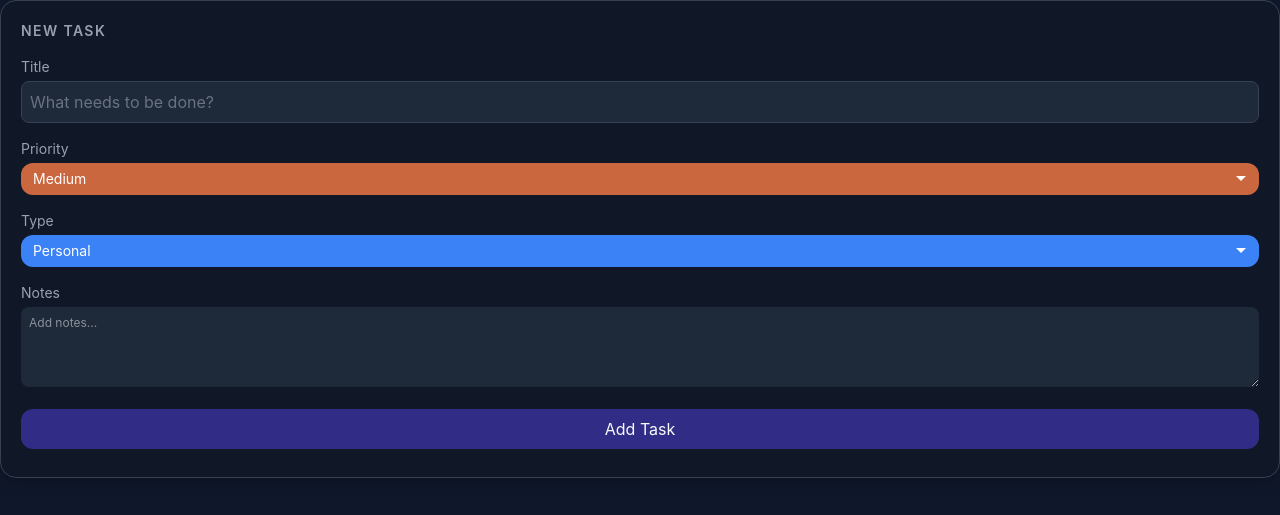
Test: TaskForm › shows an API error message when the server returns an error
Type "Todo task 1" into the field labelled "Title" at (640, 102), box [21, 81, 1259, 123]
Click the button "Medium" at (60, 178), box [21, 163, 1259, 195]
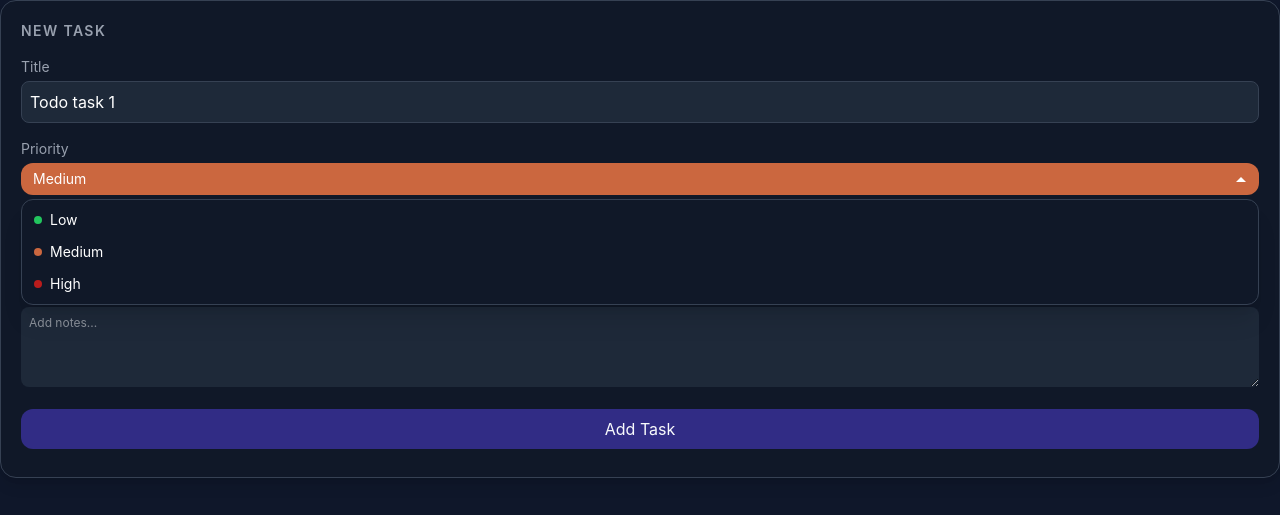
Click the button "High" at (65, 284), box [22, 268, 1258, 300]
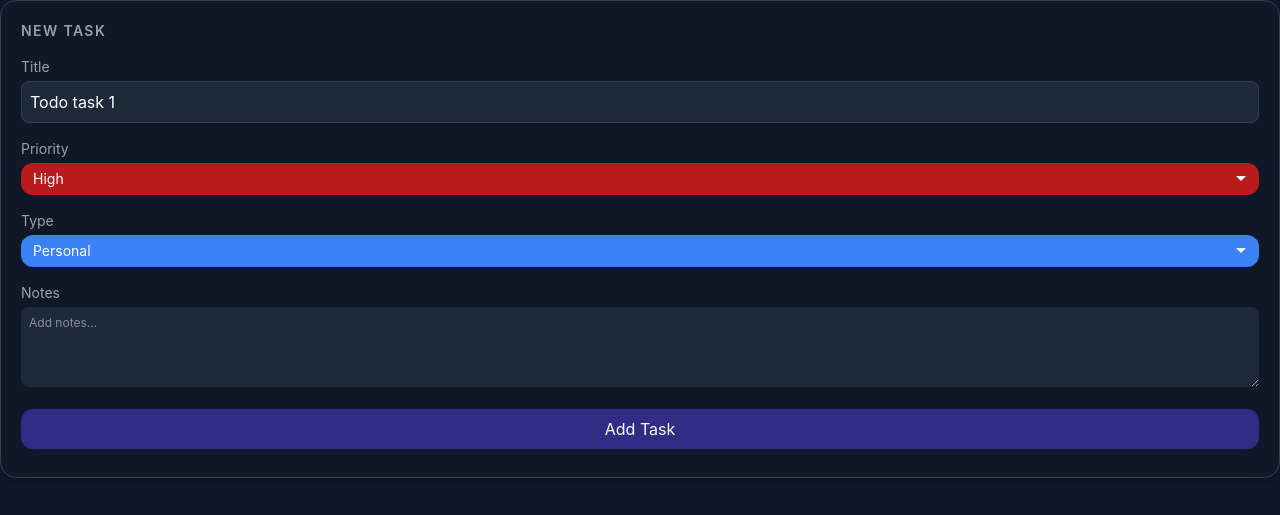
Click the button "Personal" at (62, 250), box [21, 235, 1259, 267]
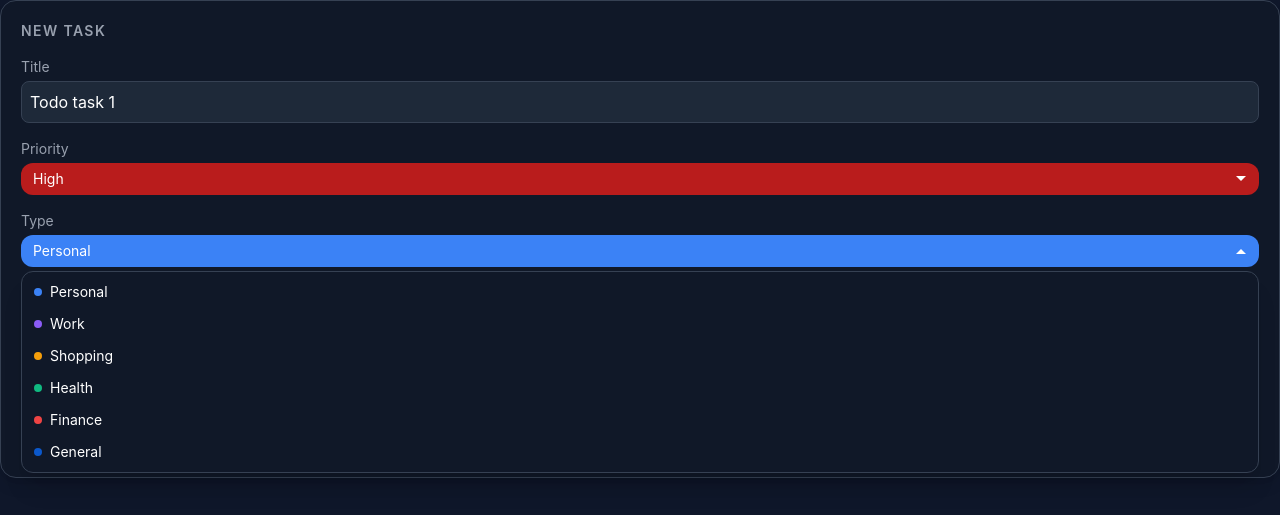
Click the button "General" at (76, 452), box [22, 436, 1258, 468]
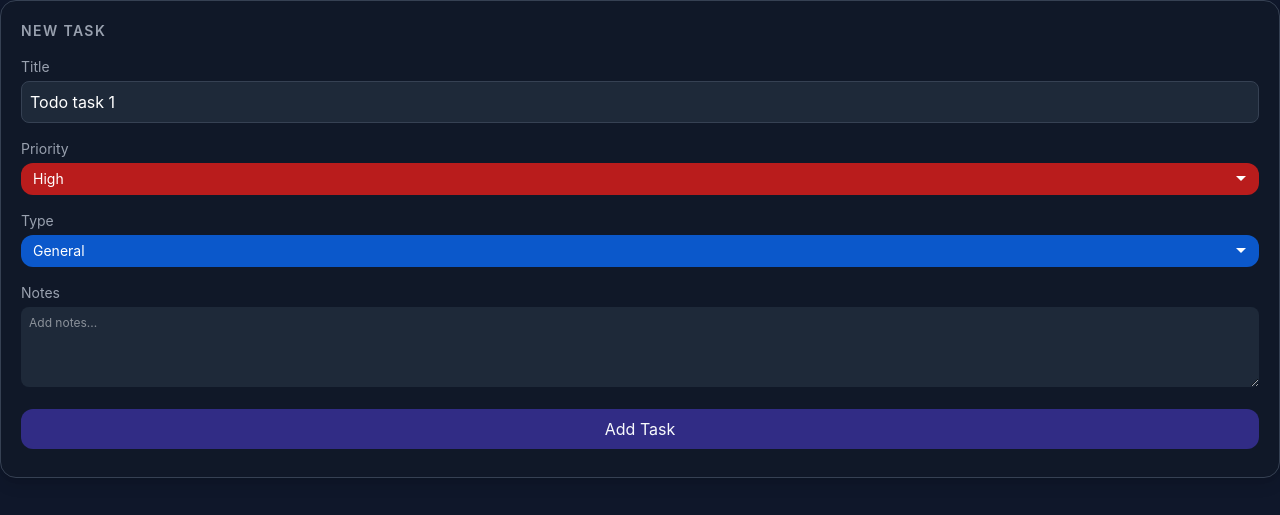
Type "Todo task notes" into the text box labelled "Notes" at (640, 347), box [21, 307, 1259, 387]
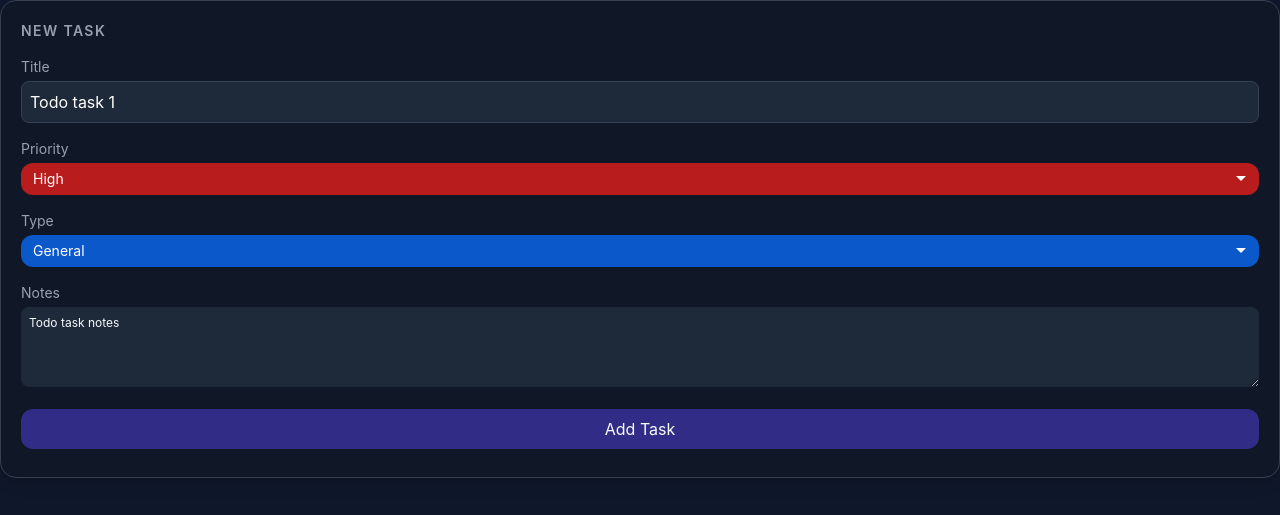
Click the button "Add Task" at (640, 429), box [21, 409, 1259, 449]
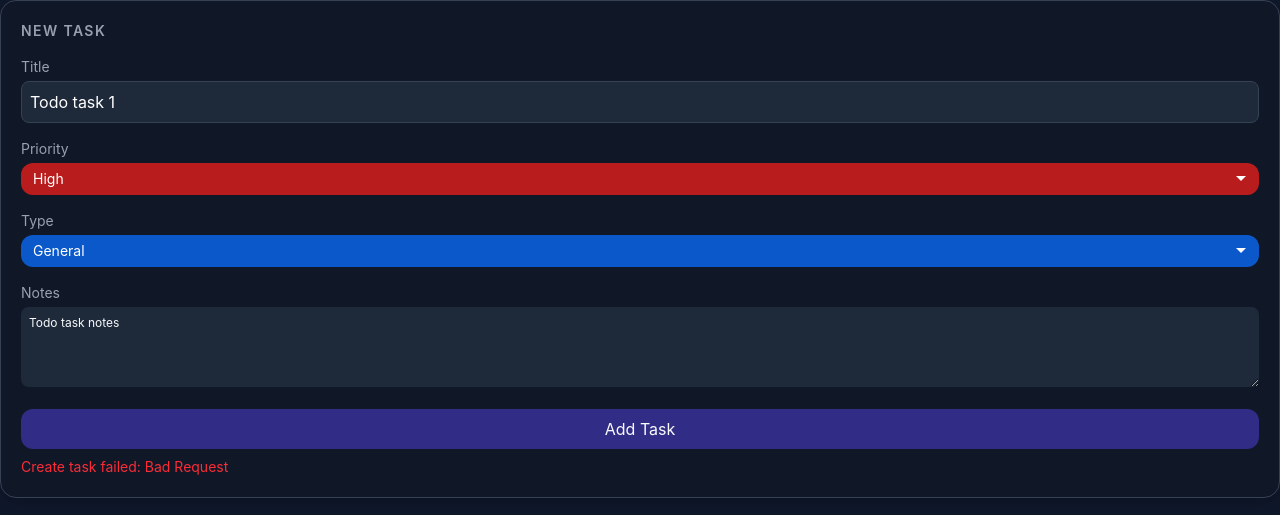
Now the text "Create task failed: Bad Request" is shown, box [21, 458, 228, 475]
